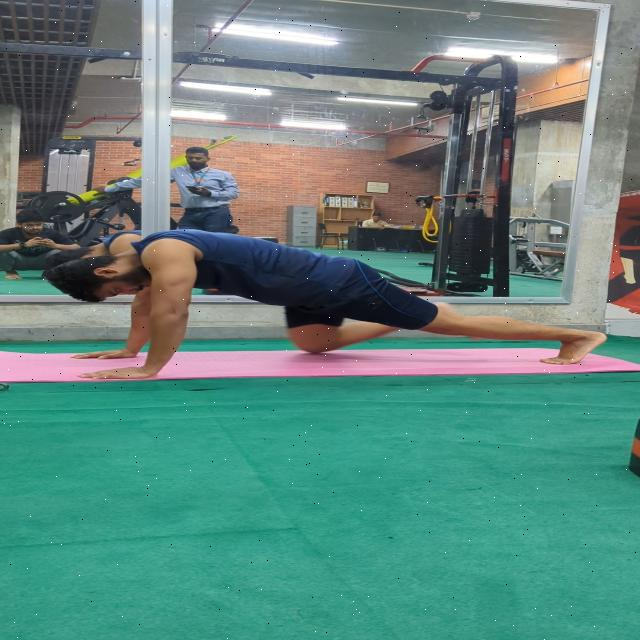Normal_MountainClimbers: (58, 217, 602, 372)
